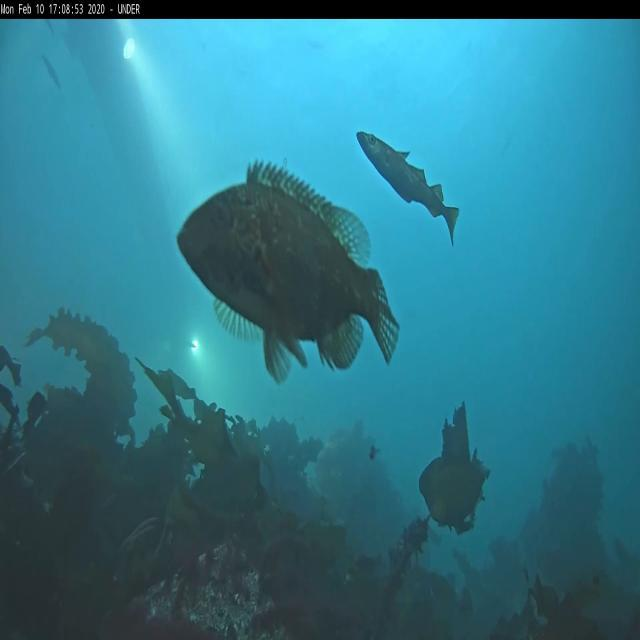fish: (176, 155, 400, 382), (356, 130, 458, 248), (39, 52, 60, 88)
